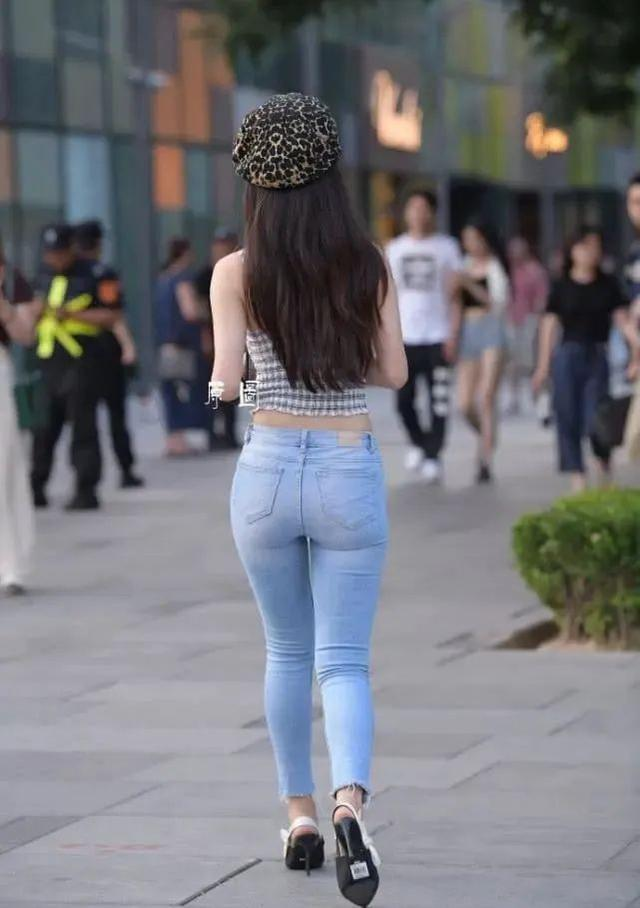person: (181, 79, 455, 861)
